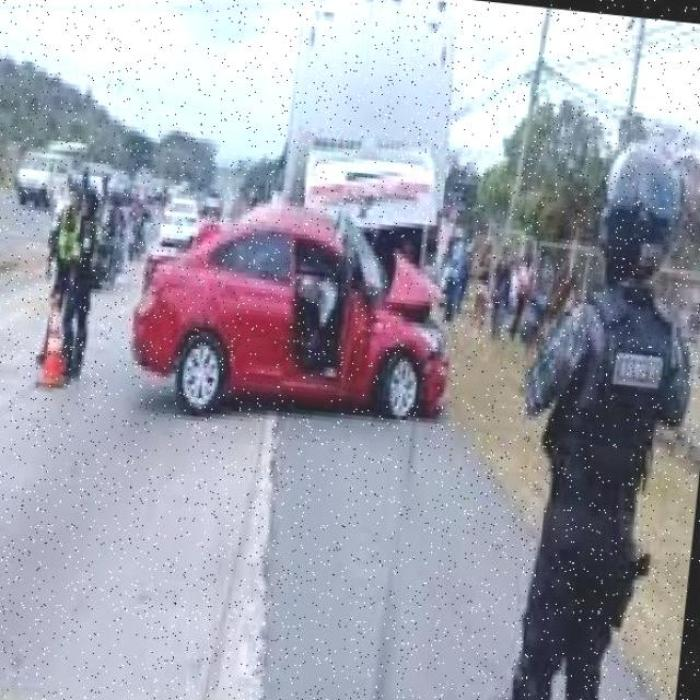Accident: (254, 133, 493, 469)
